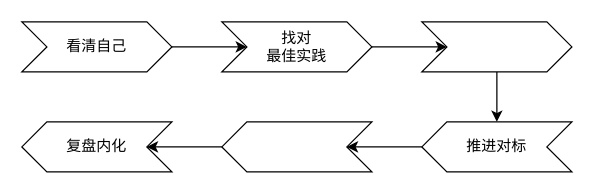
Some shapes in this 594 by 194 pixel diagram are drawn without their labels. The shapes that lost their labels are listed below. From the top down, each one's centre as x and y in pixels, then its label:
At point (496, 46): "搞透 最佳实践".
At point (296, 146): "检核闭环".
